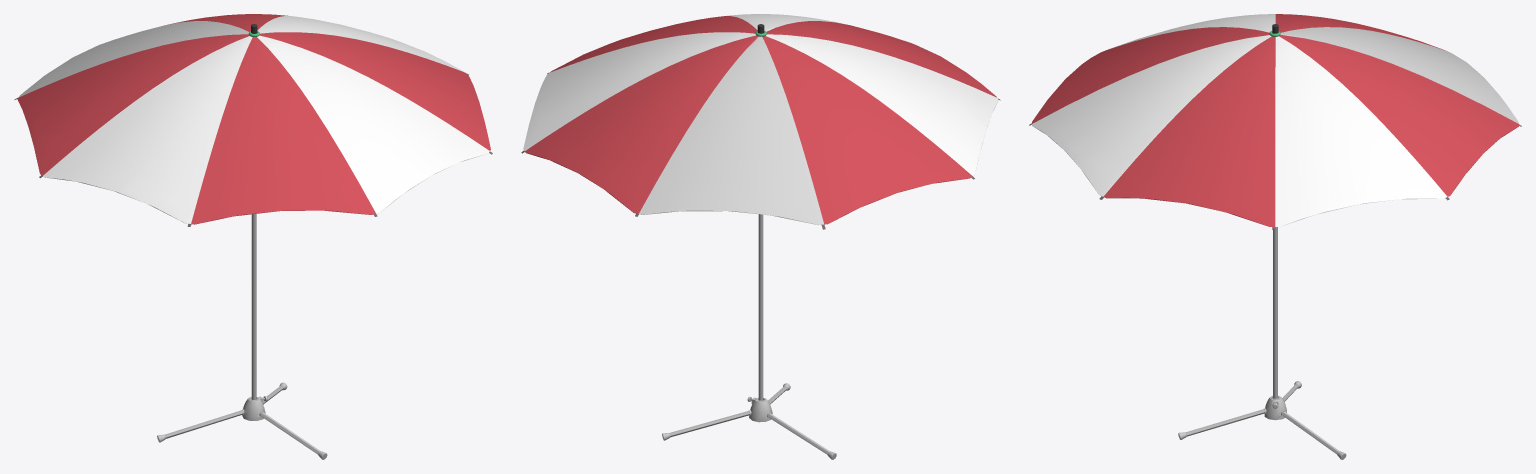
The model's file is parasol.glb.
The picture shows the model from 3 angles, left to right: view 1: azimuth 30°, elevation 25°; view 2: azimuth 150°, elevation 25°; view 3: azimuth 270°, elevation 25°; orthographic projection.
Parts seen in each view (by area): view 1: Object_76, Object_80, Object_63, Object_71, Object_61, Object_69, Object_56, Object_5, Object_7, Object_59; view 2: Object_69, Object_71, Object_59, Object_80, Object_56, Object_76, Object_61, Object_5, Object_7, Object_63; view 3: Object_61, Object_56, Object_63, Object_59, Object_76, Object_69, Object_5, Object_71, Object_80, Object_7.
Boxes of the visible parts, bbox=[...] form: Object_76: bbox=[191, 37, 375, 224]; Object_80: bbox=[43, 36, 252, 223]; Object_63: bbox=[257, 35, 489, 213]; Object_71: bbox=[17, 34, 249, 175]; Object_61: bbox=[259, 32, 490, 150]; Object_69: bbox=[19, 21, 249, 97]; Object_56: bbox=[257, 16, 464, 72]; Object_5: bbox=[157, 382, 327, 459]; Object_7: bbox=[251, 214, 256, 399]; Object_59: bbox=[168, 14, 287, 31]; Object_69: bbox=[639, 36, 824, 225]; Object_71: bbox=[762, 36, 972, 224]; Object_59: bbox=[525, 35, 758, 213]; Object_80: bbox=[766, 34, 998, 175]; Object_56: bbox=[523, 32, 755, 150]; Object_76: bbox=[766, 21, 996, 97]; Object_61: bbox=[550, 16, 757, 72]; Object_5: bbox=[662, 383, 836, 459]; Object_7: bbox=[758, 214, 763, 400]; Object_63: bbox=[727, 14, 846, 31]; Object_61: bbox=[1103, 36, 1275, 226]; Object_56: bbox=[1275, 36, 1447, 226]; Object_63: bbox=[1032, 35, 1271, 196]; Object_59: bbox=[1279, 35, 1518, 196]; Object_76: bbox=[1032, 27, 1269, 123]; Object_69: bbox=[1280, 27, 1518, 123]; Object_5: bbox=[1178, 381, 1346, 459]; Object_71: bbox=[1275, 14, 1445, 50]; Object_80: bbox=[1106, 14, 1275, 50]; Object_7: bbox=[1273, 227, 1277, 398].
Size of the model in its own units: 0.6329 by 0.5732 by 0.6329.
